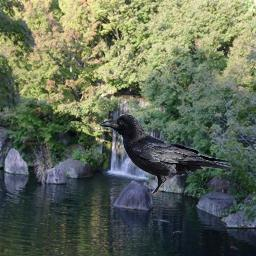Crow: (99, 114, 233, 197)
